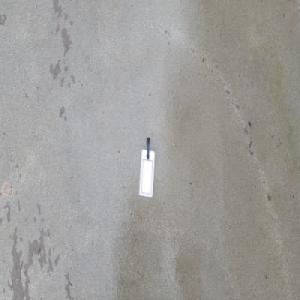LuggageTag: (138, 135, 156, 198)
